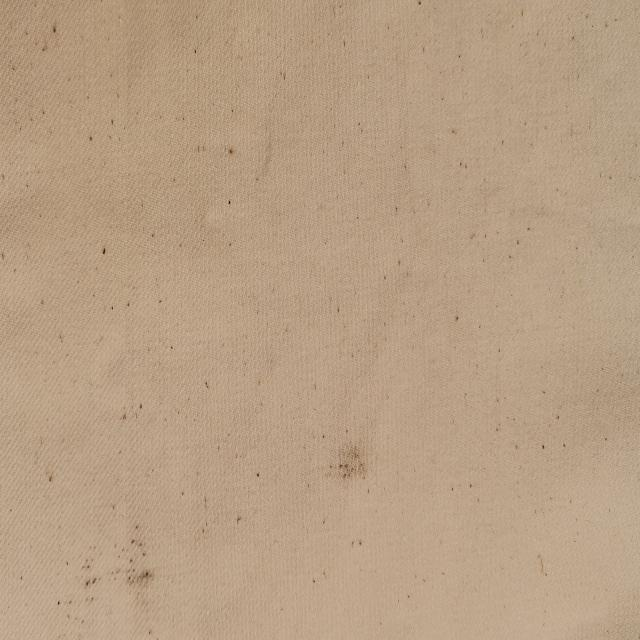taaaches: (122, 515, 156, 601), (332, 428, 368, 493), (74, 544, 100, 614)
